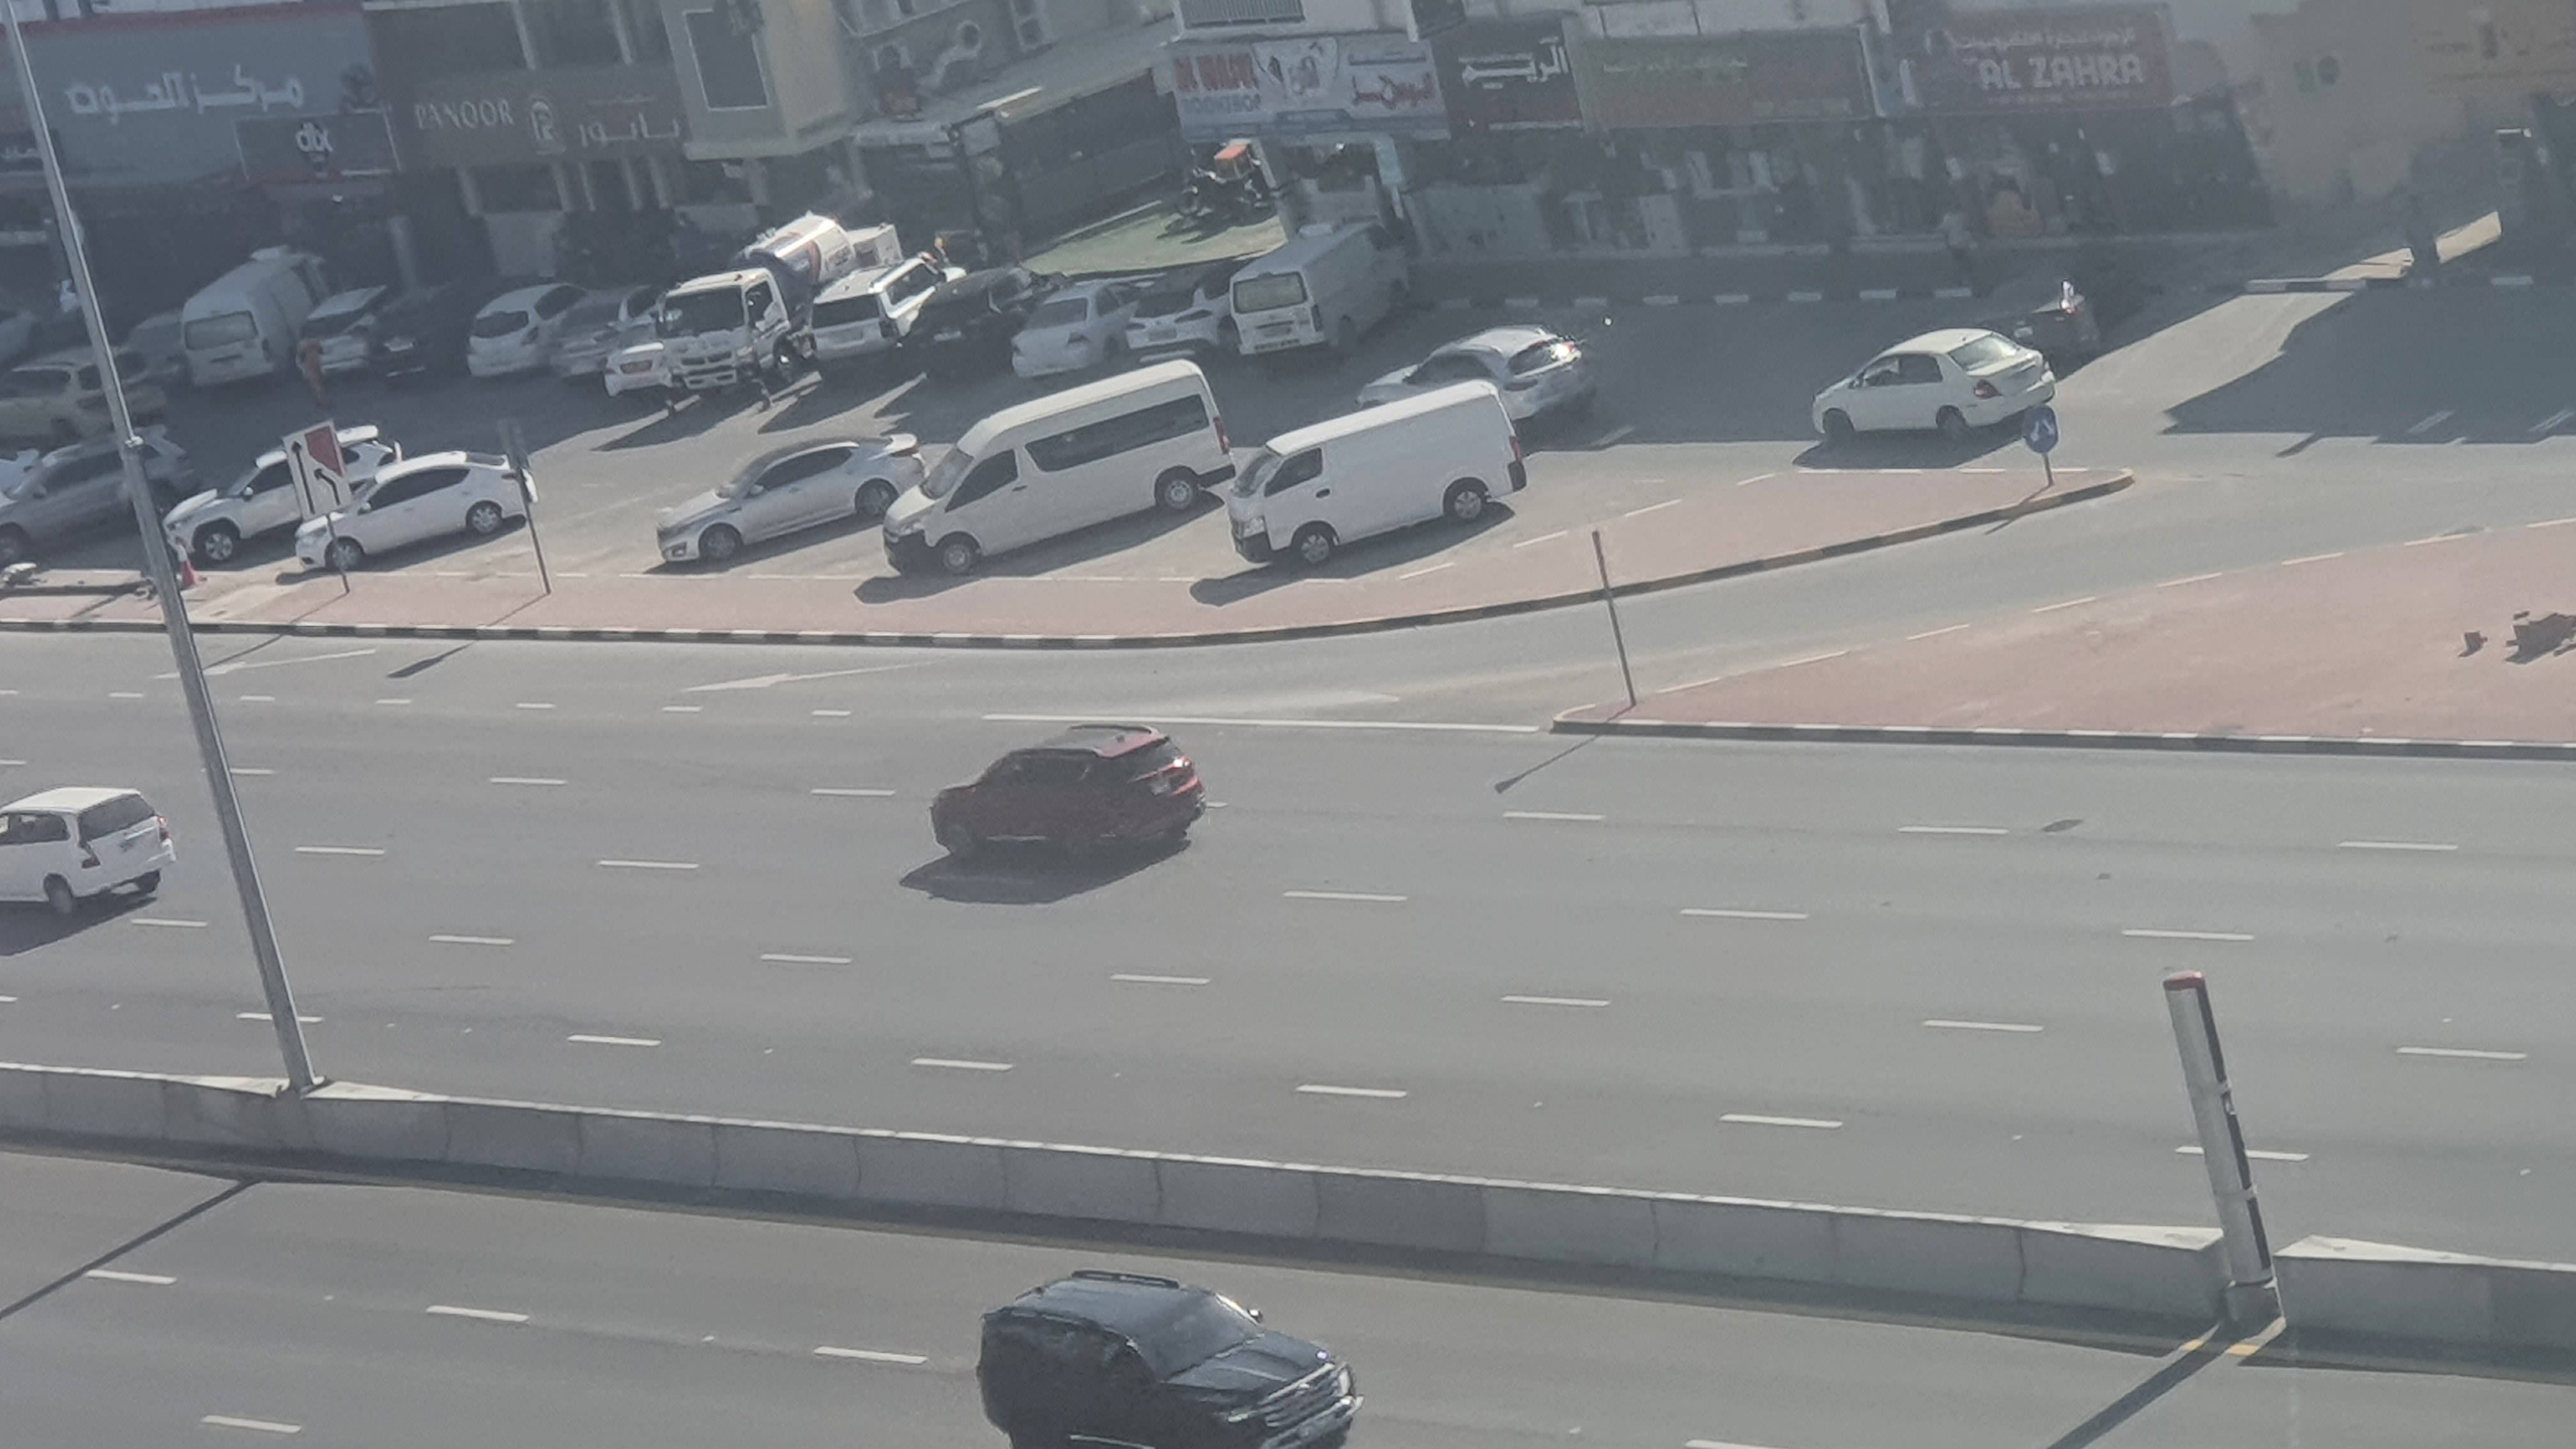NotSunroof: (971, 1256, 1369, 1449)
